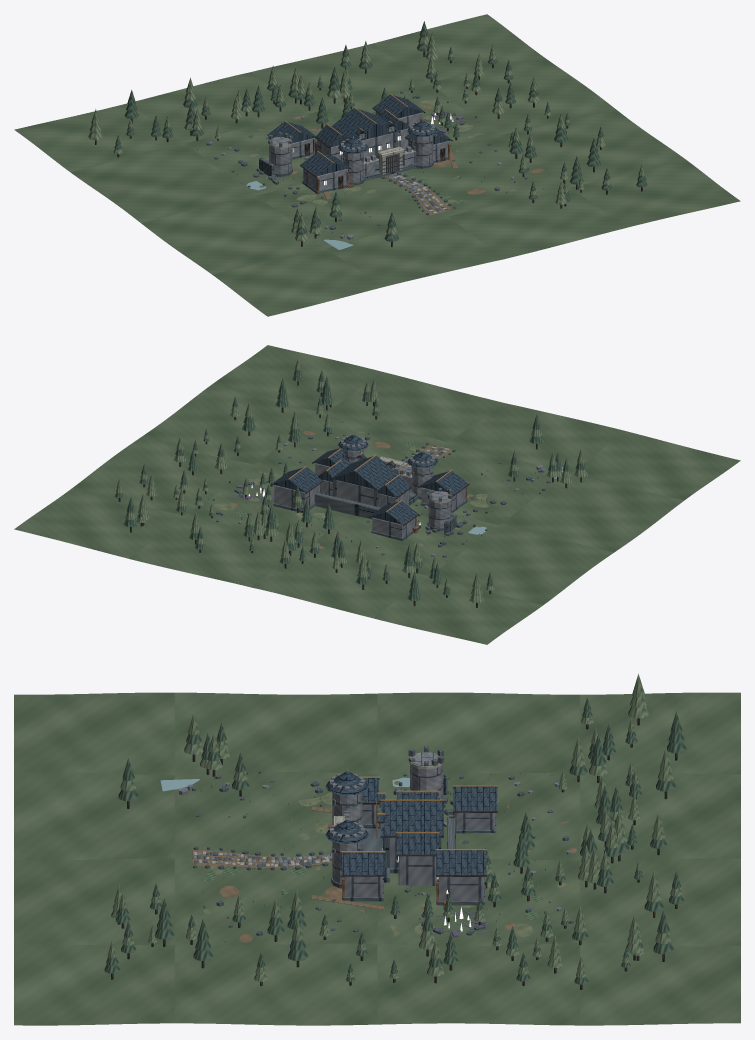
The model's file is CC0_Valoria_Stage4.glb.
The picture shows the model from 3 angles, top to bottom: view 1: azimuth 30°, elevation 25°; view 2: azimuth 150°, elevation 25°; view 3: azimuth 270°, elevation 25°; orthographic projection. The views are drawn at different scales.
Visible parts, largest first — view 1: worn Valoria terrain mesh, great hall | pitched slate, watchtower core.005, Timber workshop | pitched slate, Barracks lodge | pitched slate, Timber workshop | stone and wood, watchtower core.003, Stone quarry | pitched slate, watchtower core.002; view 2: worn Valoria terrain mesh, great hall | pitched slate, old wall | rear foot, Barracks lodge | pitched slate, watchtower core.005, Stone quarry | pitched slate, Timber workshop | pitched slate, bastion | great hall, Barracks lodge | stone and wood, Stone quarry | stone and wood; view 3: worn Valoria terrain mesh, great hall | pitched slate, Barracks lodge | pitched slate, side annex.001, Stone quarry | pitched slate, watchtower core.005, Barracks lodge | stone and wood, Granary | pitched slate, side annex | pitched slate.001, Granary | stone and wood, watchtower core.002, Stone quarry | stone and wood (+2 smaller).
Boxes of the visible parts, box(x1,y1,x2,y2) form: worn Valoria terrain mesh: box(14, 14, 740, 316); great hall | pitched slate: box(331, 108, 398, 140); watchtower core.005: box(269, 137, 291, 177); Timber workshop | pitched slate: box(301, 152, 349, 176); Barracks lodge | pitched slate: box(373, 95, 424, 118); Timber workshop | stone and wood: box(303, 168, 347, 190); watchtower core.003: box(412, 135, 432, 168); Stone quarry | pitched slate: box(268, 121, 315, 142); watchtower core.002: box(343, 152, 363, 185); worn Valoria terrain mesh: box(14, 345, 740, 644); great hall | pitched slate: box(331, 455, 398, 489); old wall | rear foot: box(314, 492, 380, 519); Barracks lodge | pitched slate: box(272, 467, 322, 492); watchtower core.005: box(428, 491, 451, 531); Stone quarry | pitched slate: box(369, 501, 418, 524); Timber workshop | pitched slate: box(419, 471, 468, 494); bastion | great hall: box(337, 480, 373, 505); Barracks lodge | stone and wood: box(274, 484, 320, 509); Stone quarry | stone and wood: box(372, 517, 415, 537); worn Valoria terrain mesh: box(14, 692, 740, 1025); great hall | pitched slate: box(381, 801, 443, 836); Barracks lodge | pitched slate: box(436, 850, 486, 875); side annex.001: box(398, 856, 436, 885); Stone quarry | pitched slate: box(453, 786, 497, 810); watchtower core.005: box(410, 752, 442, 799); Barracks lodge | stone and wood: box(438, 877, 483, 900); Granary | pitched slate: box(342, 852, 384, 874); side annex | pitched slate.001: box(397, 833, 438, 854); Granary | stone and wood: box(344, 876, 382, 896); watchtower core.002: box(332, 793, 362, 825); Stone quarry | stone and wood: box(456, 813, 494, 829).
Bounding box in the file's own units: 112 × 11.04 × 104.
29 materials, 23 textured.
